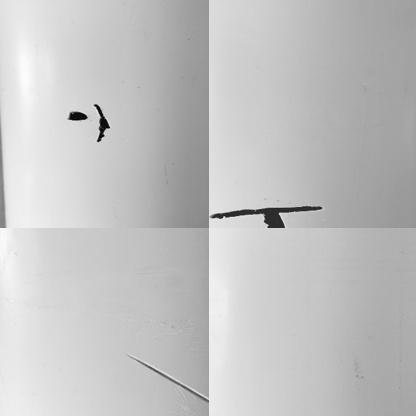fengxi: (210, 203, 329, 217)
kongdong: (93, 101, 119, 146), (262, 214, 287, 229), (68, 109, 86, 123)
sunshang: (125, 349, 210, 404)
